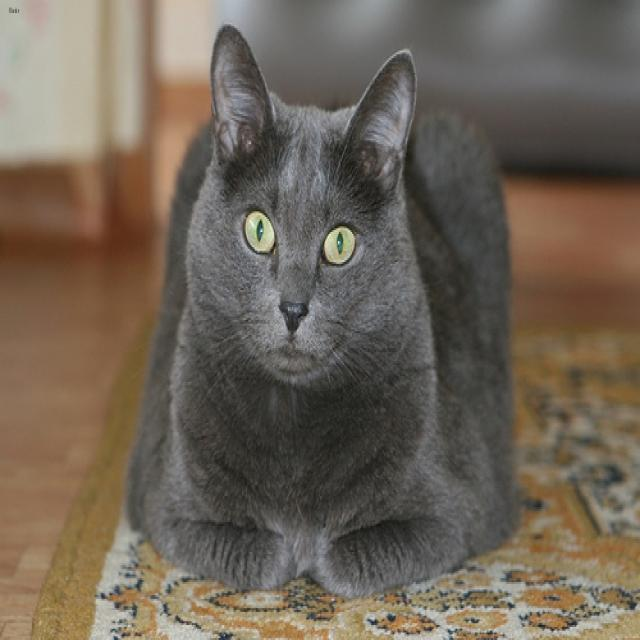cat: (189, 24, 415, 370)
